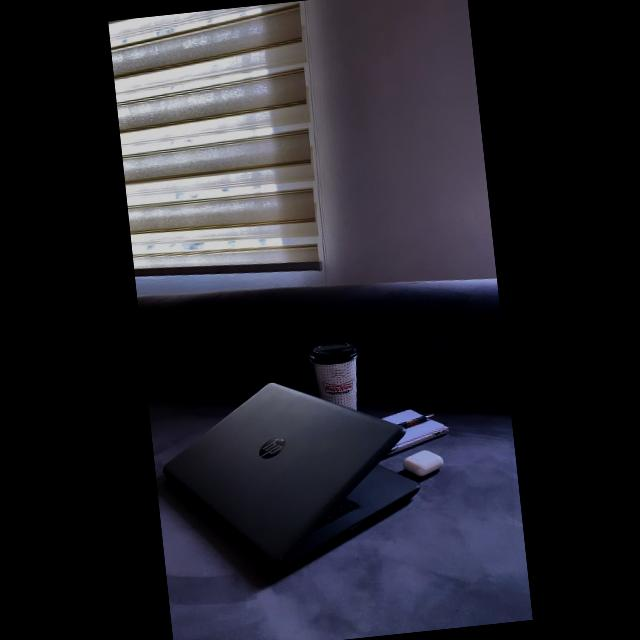laptop: (163, 383, 418, 572)
